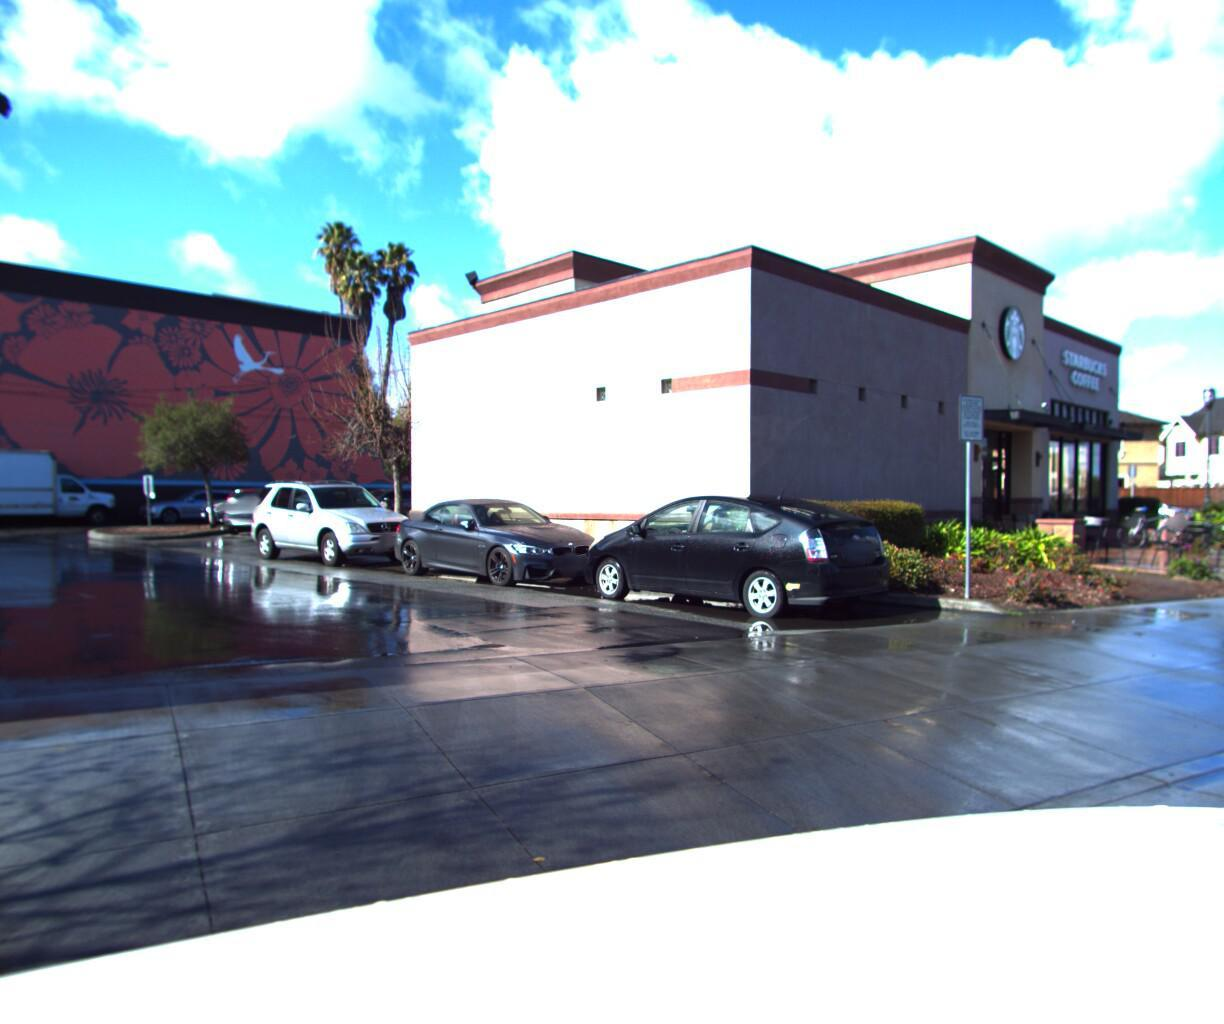bicycle: (1103, 495, 1203, 550), (1153, 495, 1224, 548), (1159, 505, 1224, 560)
car: (574, 493, 910, 637), (377, 495, 625, 603)
